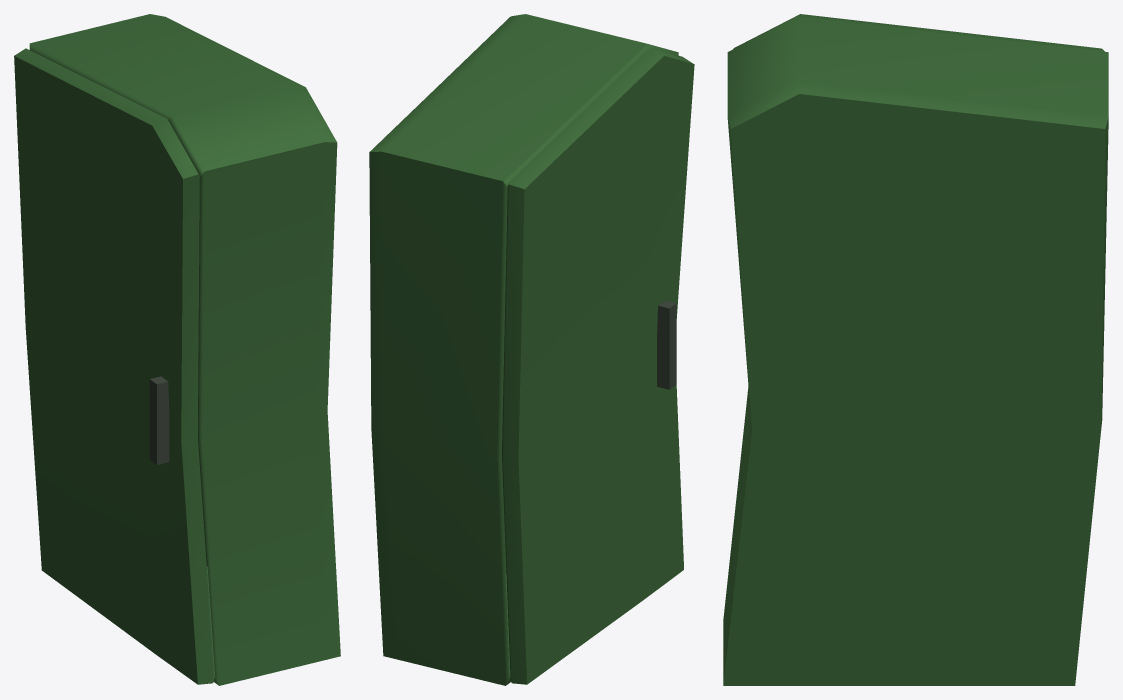
Rendered from Fridge.fbx.
The picture shows the model from 3 angles, left to right: view 1: azimuth 30°, elevation 25°; view 2: azimuth 150°, elevation 25°; view 3: azimuth 270°, elevation 25°; orthographic projection. The views are drawn at different scales.
Visible parts, largest first — view 1: polySurface1, pCube1; view 2: polySurface1, pCube1; view 3: polySurface1.
Part boxes in pixels (x1,y1,x2,y2): polySurface1: [14, 14, 340, 685]; pCube1: [149, 376, 169, 464]; polySurface1: [369, 14, 694, 685]; pCube1: [657, 300, 676, 389]; polySurface1: [723, 14, 1108, 685].
Size of the model in its own units: 50.97 by 170 by 99.42.
